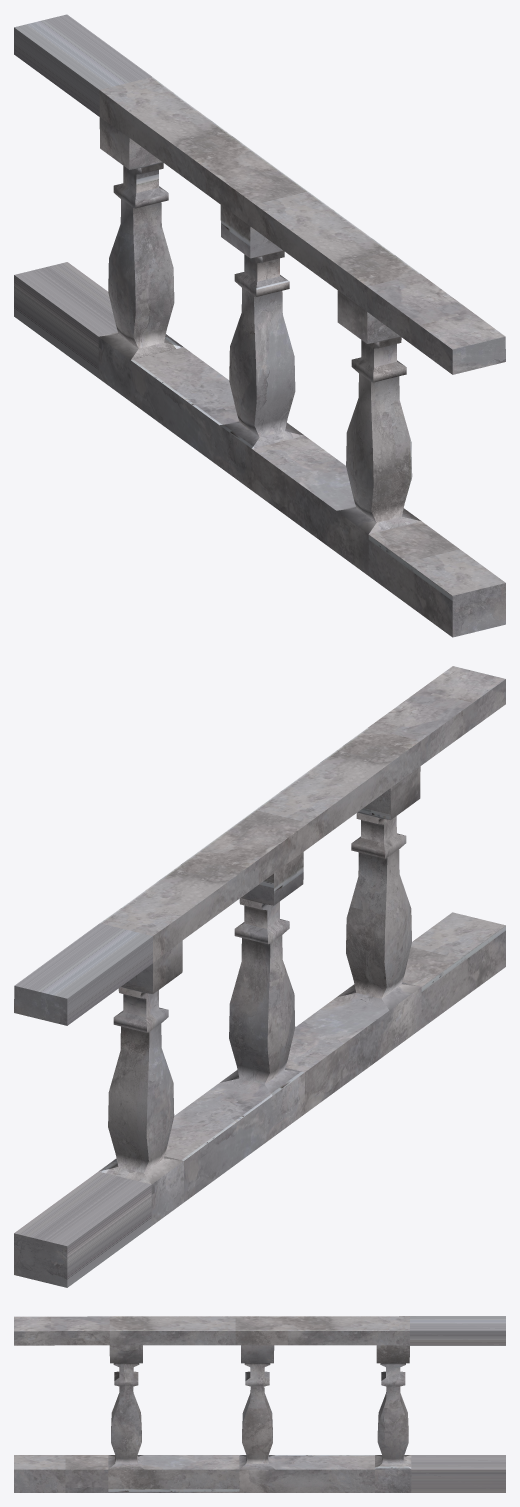
The model's file is banBoth.fbx.
3 renders of one model, top to bottom at view 1: azimuth 30°, elevation 25°; view 2: azimuth 150°, elevation 25°; view 3: azimuth 270°, elevation 25°, orthographic. The views are drawn at different scales.
Visible parts, largest first — view 1: polySurface32; view 2: polySurface32; view 3: polySurface32.
Boxes of the visible parts, x1=… form: polySurface32: x1=14, y1=14, x2=505, y2=637; polySurface32: x1=14, y1=666, x2=505, y2=1287; polySurface32: x1=14, y1=1316, x2=505, y2=1492.
Bounding box in the file's own units: 0.3894 × 2.01 × 5.53.
1 material, 1 textured.
